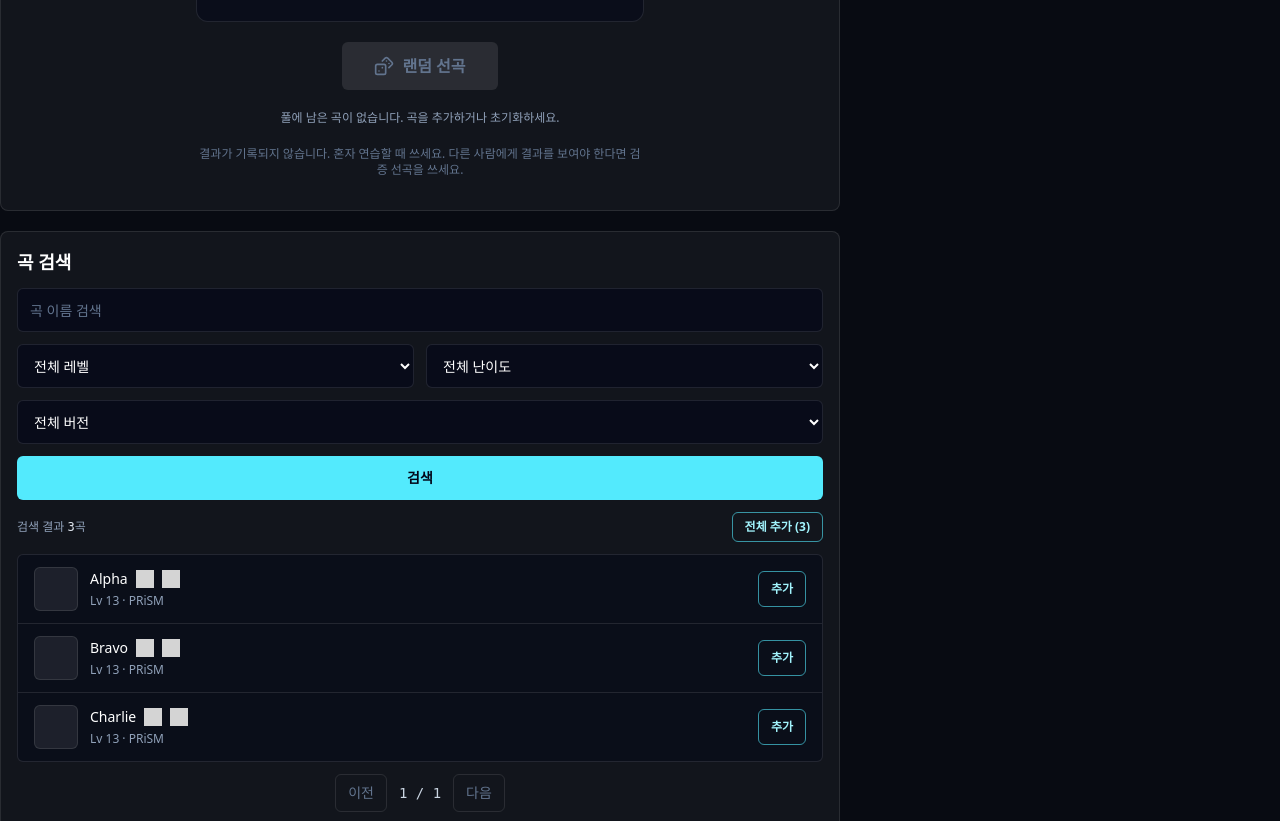
it: RandomPicker › moves every drawn chart back into the pool
(page scrolled)
Click the button with aria-label "Alpha DX MASTER 풀에 추가": x=782, y=589 top-left (758, 571), bottom-right (806, 607)
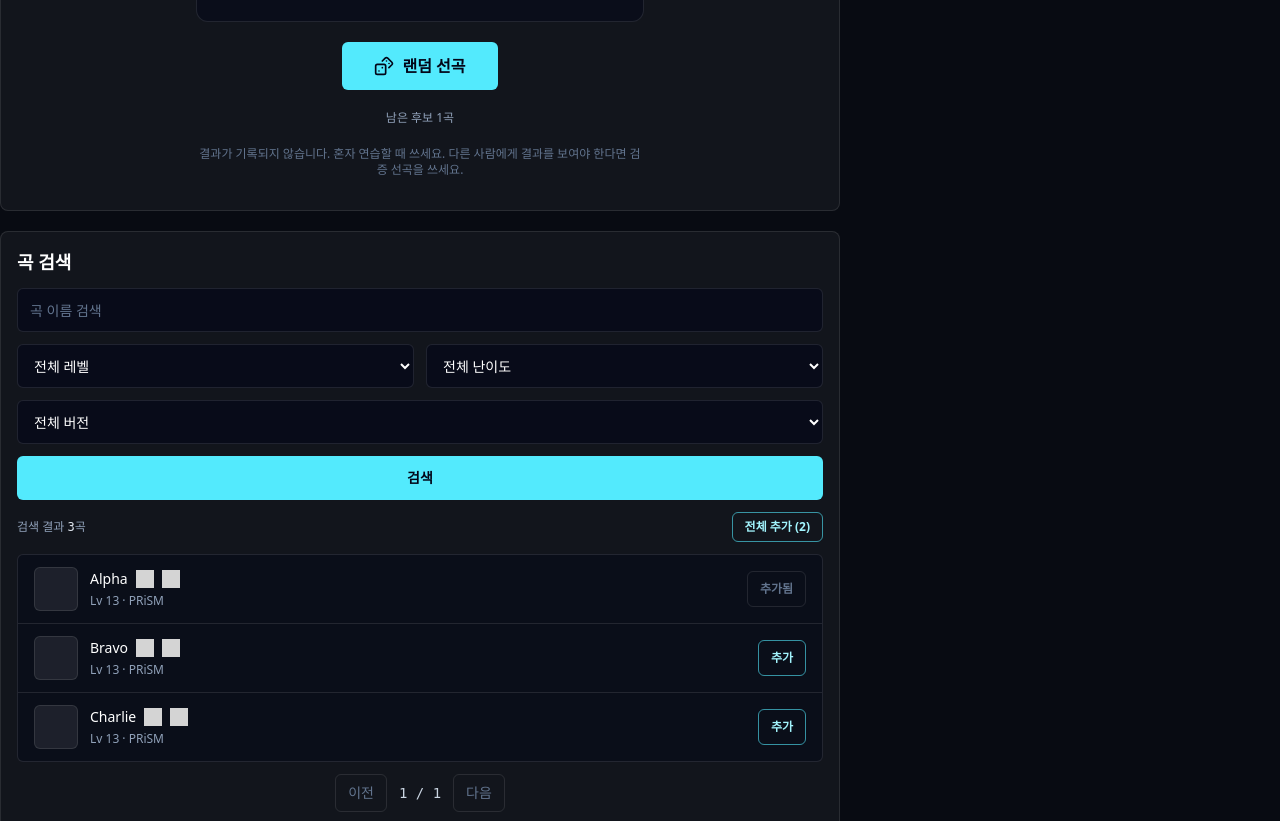
Click the button with aria-label "Bravo DX MASTER 풀에 추가": x=782, y=658 top-left (758, 640), bottom-right (806, 676)
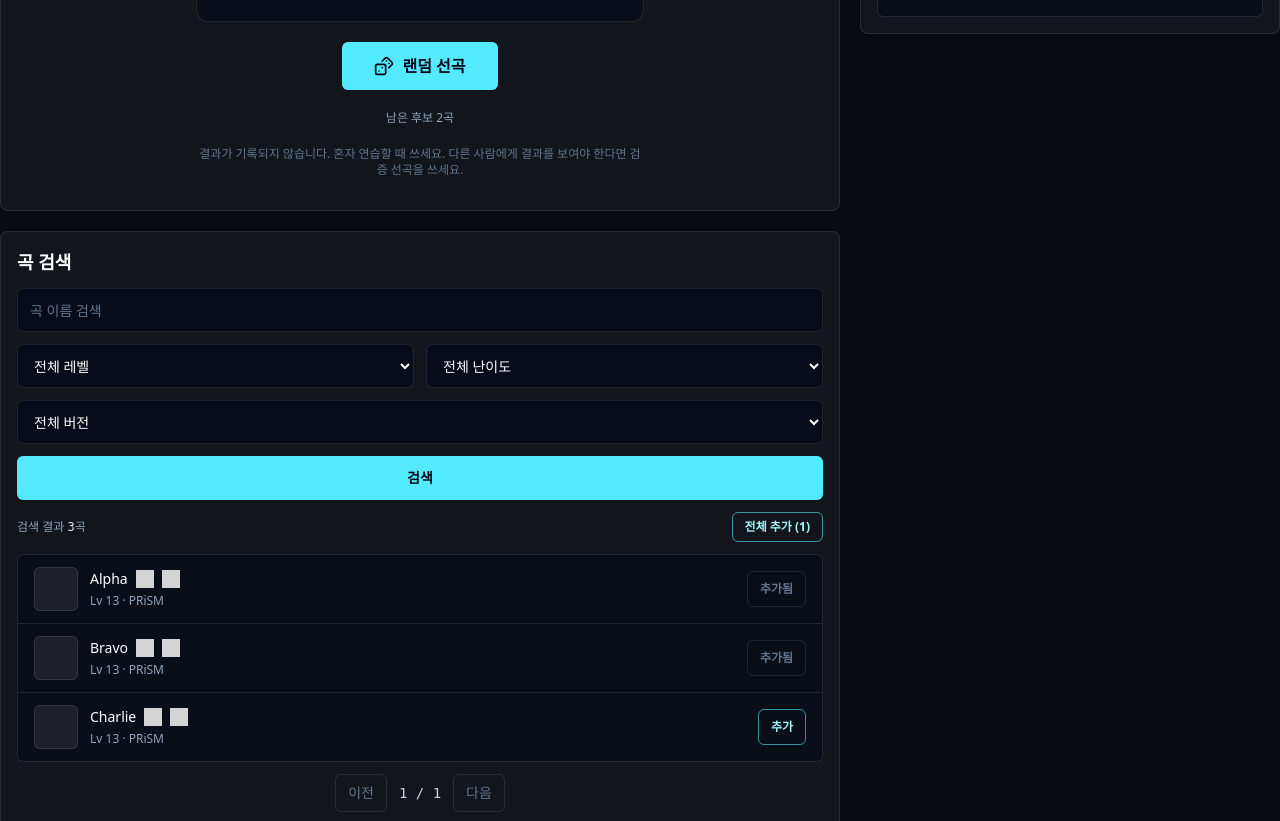
Click the button "랜덤 선곡": x=420, y=66 top-left (342, 42), bottom-right (498, 90)
Wait 3050 ms
(page scrolled)
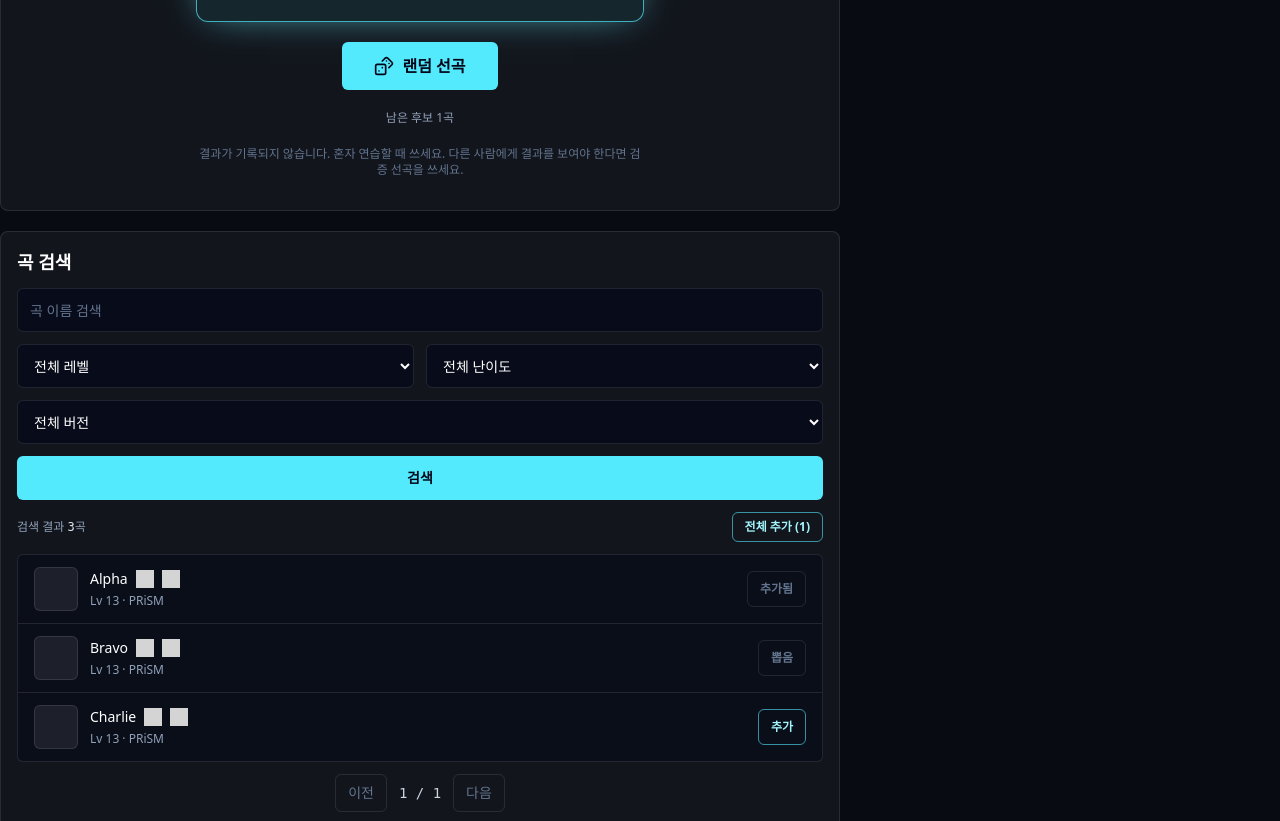
Click the button "랜덤 선곡": x=420, y=66 top-left (342, 42), bottom-right (498, 90)
Wait 3050 ms
(page scrolled)
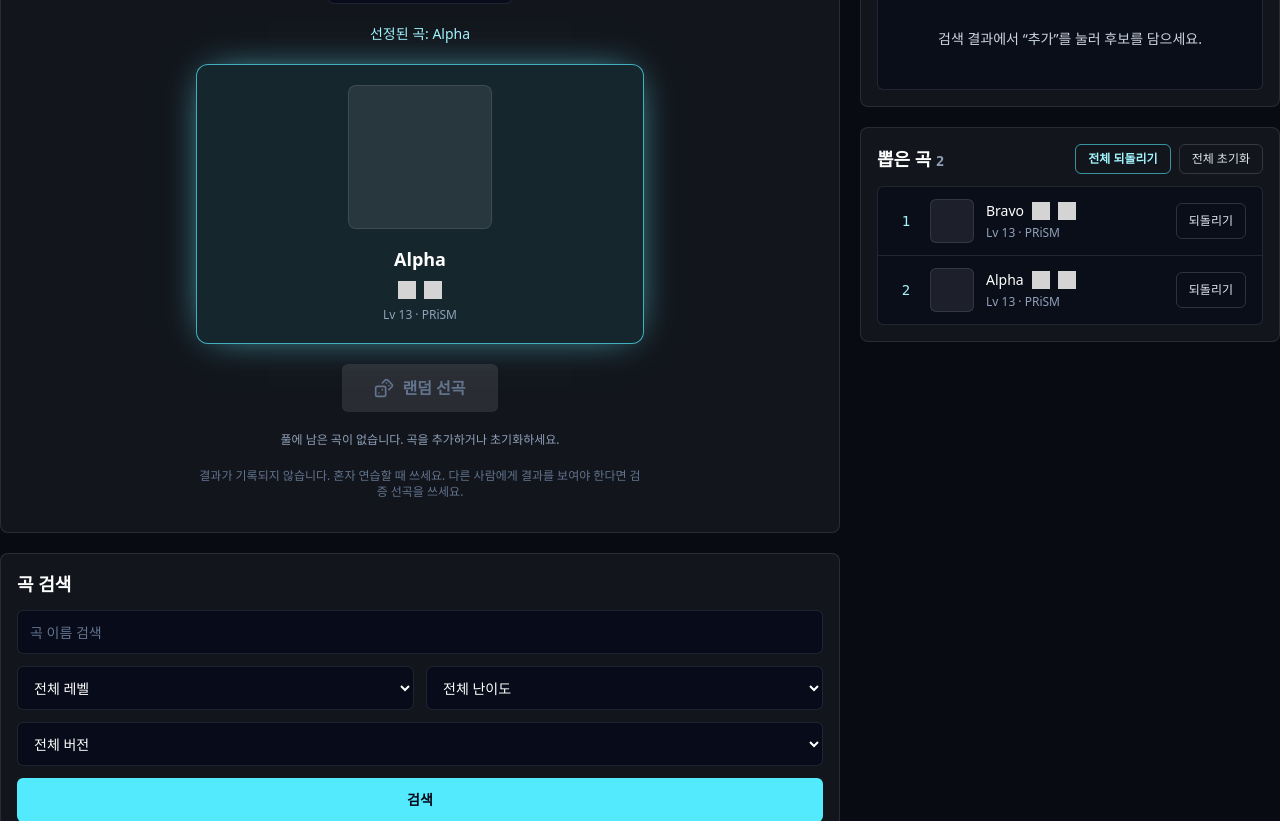
Click the button "전체 되돌리기": x=1123, y=159 top-left (1075, 144), bottom-right (1171, 174)
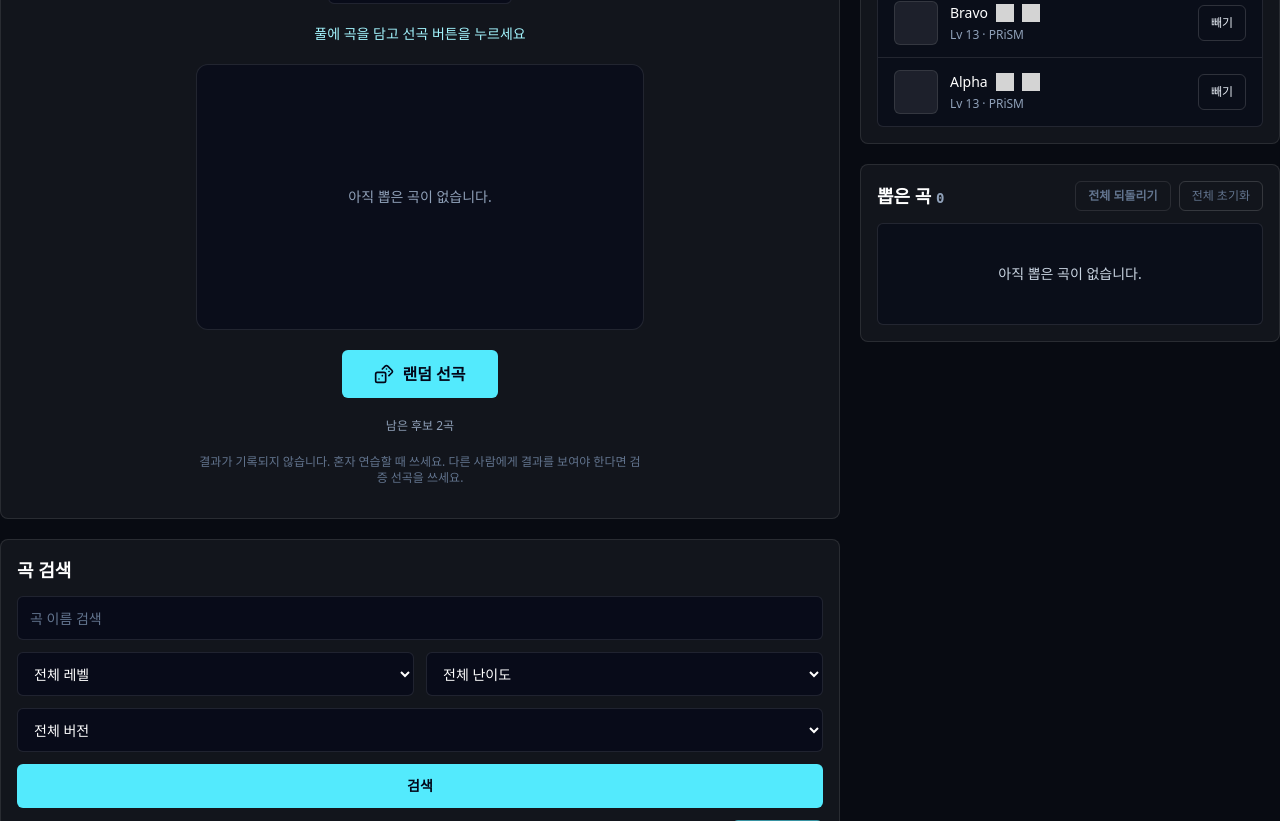
Expected: the button "랜덤 선곡" is enabled, top-left (342, 350), bottom-right (498, 398)
